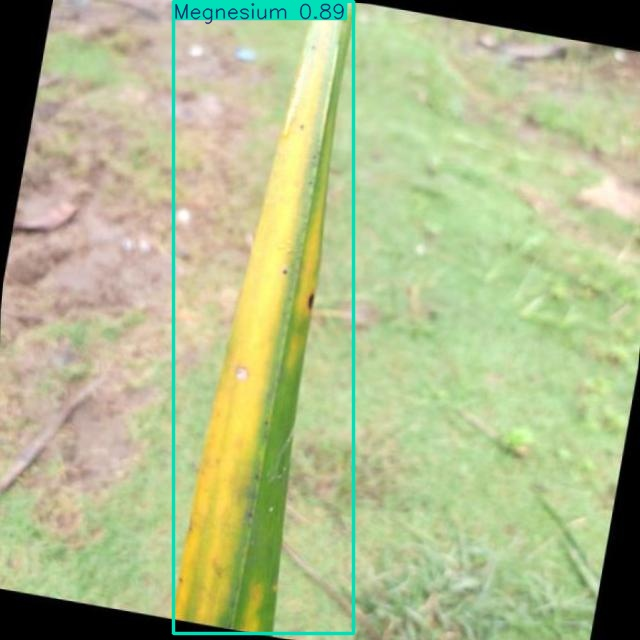Megnesium: (174, 1, 353, 634)
